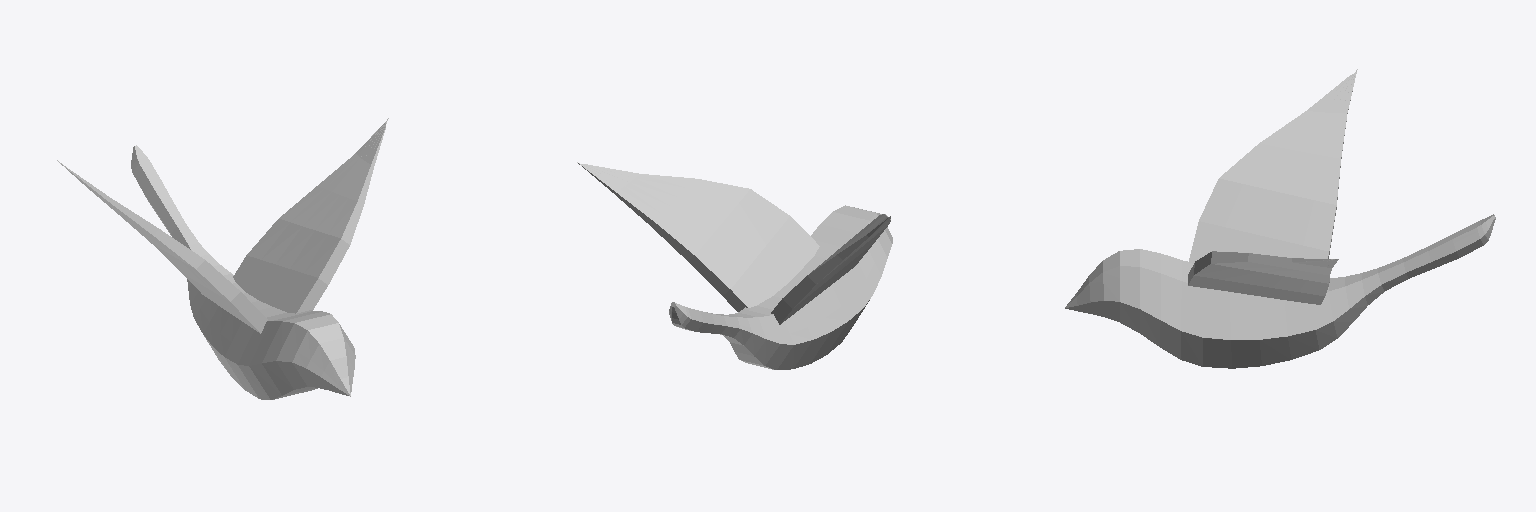
File: bird4.obj
3 views of the same model, side by side, from view 1: azimuth 30°, elevation 25°; view 2: azimuth 150°, elevation 25°; view 3: azimuth 270°, elevation 25° (orthographic).
Parts seen in each view (by area): view 1: Null_1_Loft_NURBS, Null_1_Cube_1_Cube_11, Null_1_Cube_Cube1; view 2: Null_1_Cube_1_Cube_11, Null_1_Loft_NURBS, Null_1_Cube_Cube1; view 3: Null_1_Loft_NURBS, Null_1_Cube_Cube1, Null_1_Cube_1_Cube_11.
Part boxes in pixels (x1,y1,x2,y2): Null_1_Loft_NURBS: (131, 145, 355, 399); Null_1_Cube_1_Cube_11: (233, 118, 388, 313); Null_1_Cube_Cube1: (57, 160, 267, 333); Null_1_Cube_1_Cube_11: (577, 162, 819, 311); Null_1_Loft_NURBS: (669, 205, 892, 369); Null_1_Cube_Cube1: (771, 214, 890, 324); Null_1_Loft_NURBS: (1065, 214, 1495, 368); Null_1_Cube_Cube1: (1189, 69, 1357, 263); Null_1_Cube_1_Cube_11: (1188, 251, 1338, 304).
Bounding box in the file's own units: 5.84 × 3.74 × 6.73.